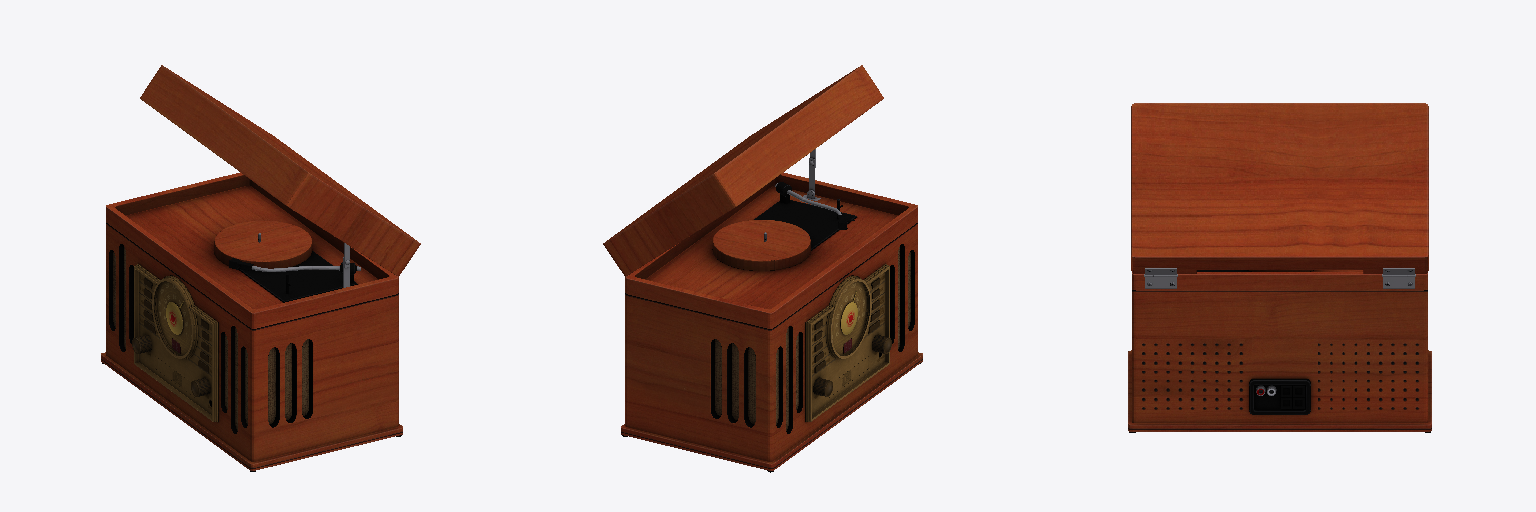
3 renders of one model, left to right at view 1: azimuth 30°, elevation 25°; view 2: azimuth 150°, elevation 25°; view 3: azimuth 270°, elevation 25°, orthographic.
Visible parts, largest first — view 1: Object02.1; view 2: Object02.1; view 3: Object02.1.
Part boxes in pixels (left/top/right/bottom): Object02.1: left=101, top=65, right=420, bottom=471; Object02.1: left=603, top=65, right=922, bottom=472; Object02.1: left=1128, top=103, right=1431, bottom=432.
Size of the model in its own units: 91.66 by 136 by 131.
Materials: 2 (1 with a texture image).